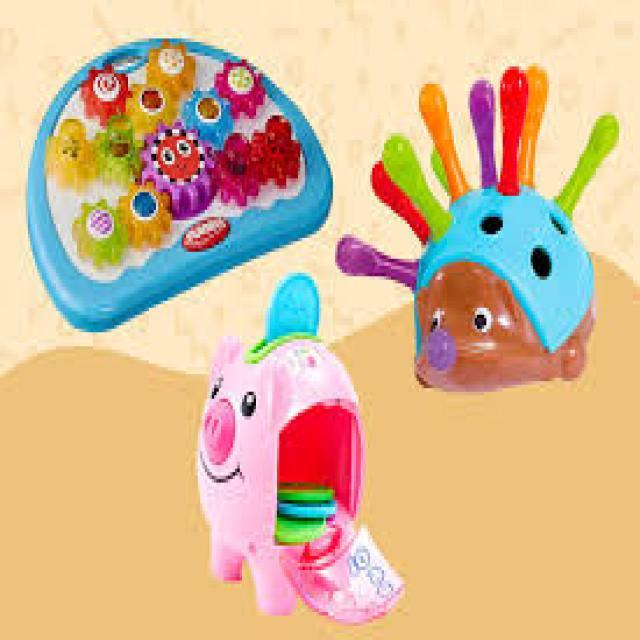hard-toy: (338, 66, 618, 390), (28, 38, 330, 332), (198, 274, 404, 622)
